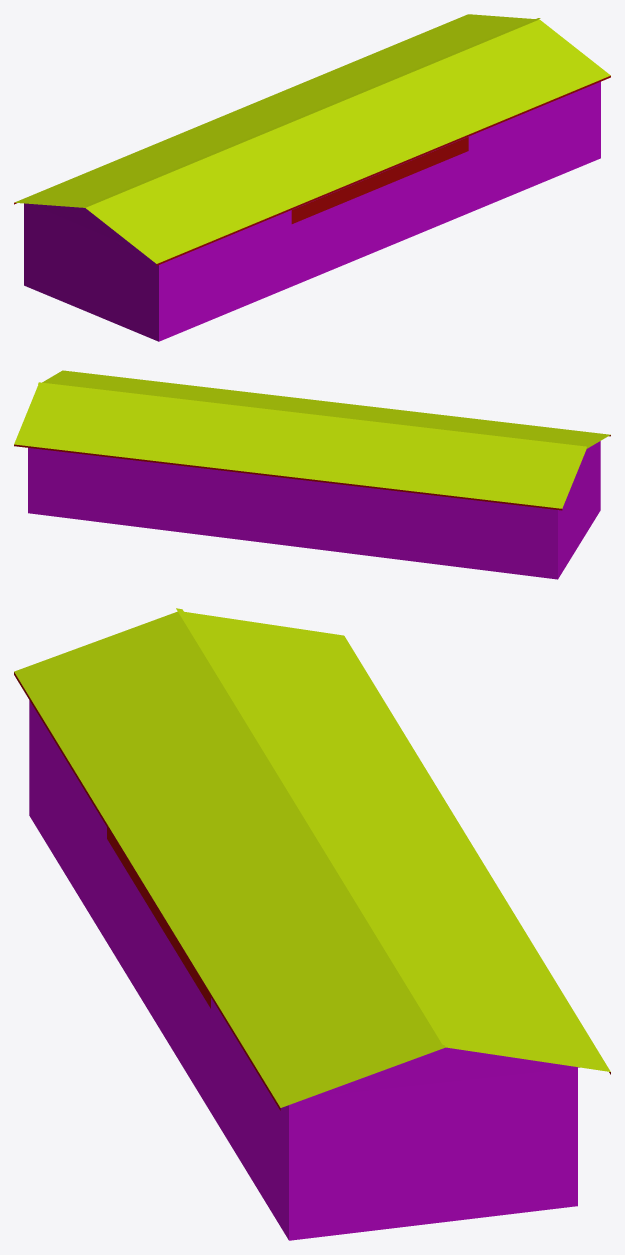
The model's file is rmc_158.glb.
3 renders of one model, top to bottom at view 1: azimuth 30°, elevation 25°; view 2: azimuth 150°, elevation 25°; view 3: azimuth 270°, elevation 25°, orthographic. The views are drawn at different scales.
Parts seen in each view (by area): view 1: rmc_158; view 2: rmc_158; view 3: rmc_158.
Boxes of the visible parts, x1,y1,x2,y2 form: rmc_158: [14, 14, 610, 341]; rmc_158: [14, 370, 610, 579]; rmc_158: [14, 608, 610, 1240].
Bounding box in the file's own units: 38.31 × 6.97 × 20.45.
